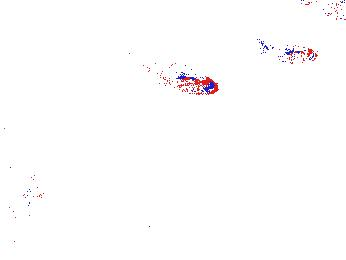X-ray fish: (125, 225, 165, 260)
red belly glassfish: (136, 54, 218, 96), (254, 37, 318, 64)
